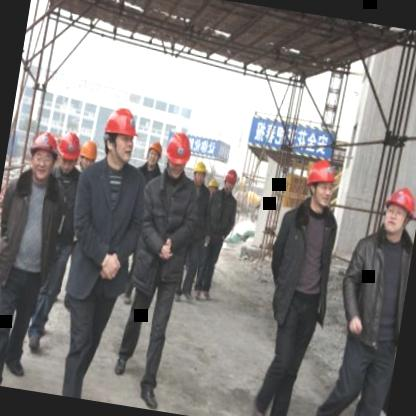helmet: (96, 102, 142, 166), (376, 181, 416, 241), (301, 154, 341, 211), (25, 125, 60, 180), (160, 129, 194, 179), (51, 126, 81, 180), (73, 136, 101, 177), (188, 155, 211, 190), (141, 137, 162, 172), (222, 166, 240, 196), (204, 176, 221, 202)
